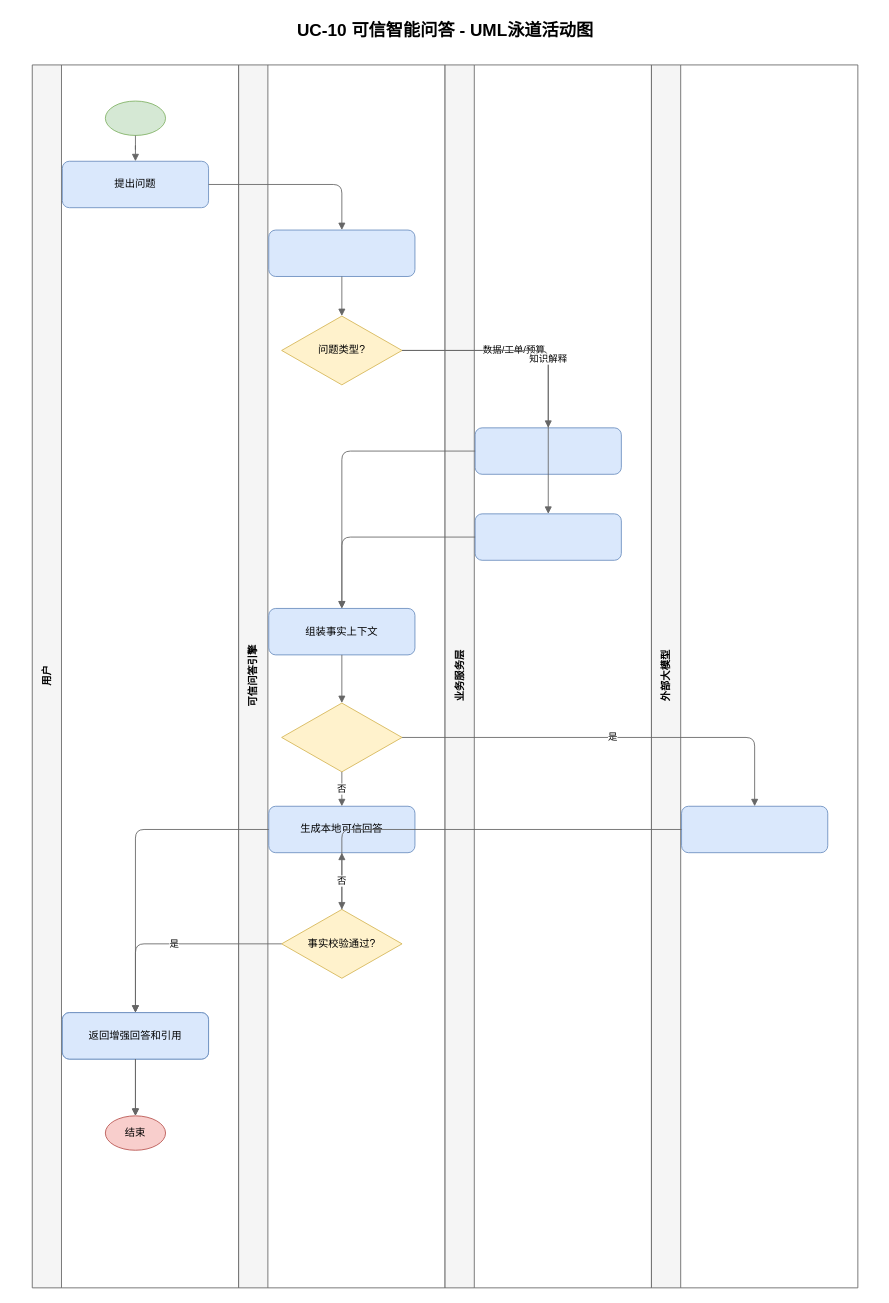
Some shapes in this 889 by 1303 pixel diagram are drawn without their labels. The box of each missing label's shape, as (x1, y1, x2, y2) in pixels:
外部模型启用?: (281, 702, 402, 772)
开始: (104, 100, 166, 135)
检索业务上下文: (474, 427, 621, 474)
检索知识库: (474, 513, 621, 560)
识别意图和实体: (268, 229, 415, 276)
调用外部模型增强: (681, 805, 828, 853)
